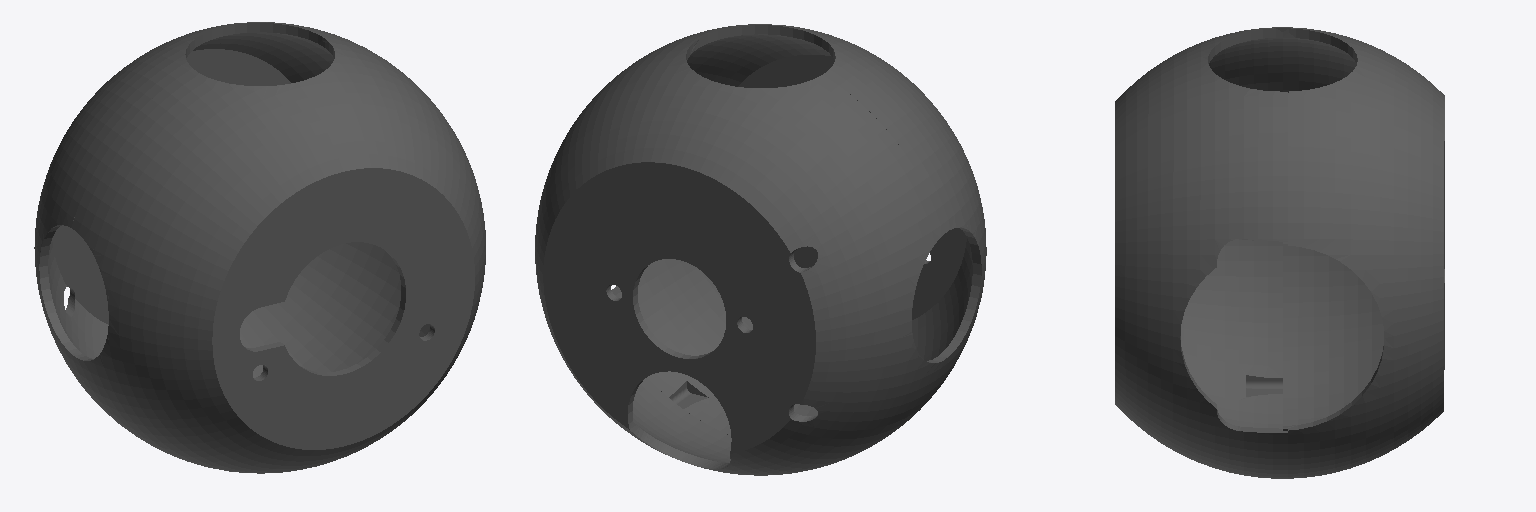
The model's file is humanoidHeadRightEye.obj.
The picture shows the model from 3 angles: view 1: azimuth 30°, elevation 25°; view 2: azimuth 150°, elevation 25°; view 3: azimuth 270°, elevation 25°; orthographic projection.
Parts seen in each view (by area): view 1: stl_object; view 2: stl_object; view 3: stl_object.
Part boxes in pixels (left/top/right/bottom): stl_object: left=34, top=22, right=485, bottom=473; stl_object: left=535, top=24, right=986, bottom=475; stl_object: left=1115, top=27, right=1444, bottom=478.
Size of the model in its own units: 2.17 by 2.28 by 1.72.